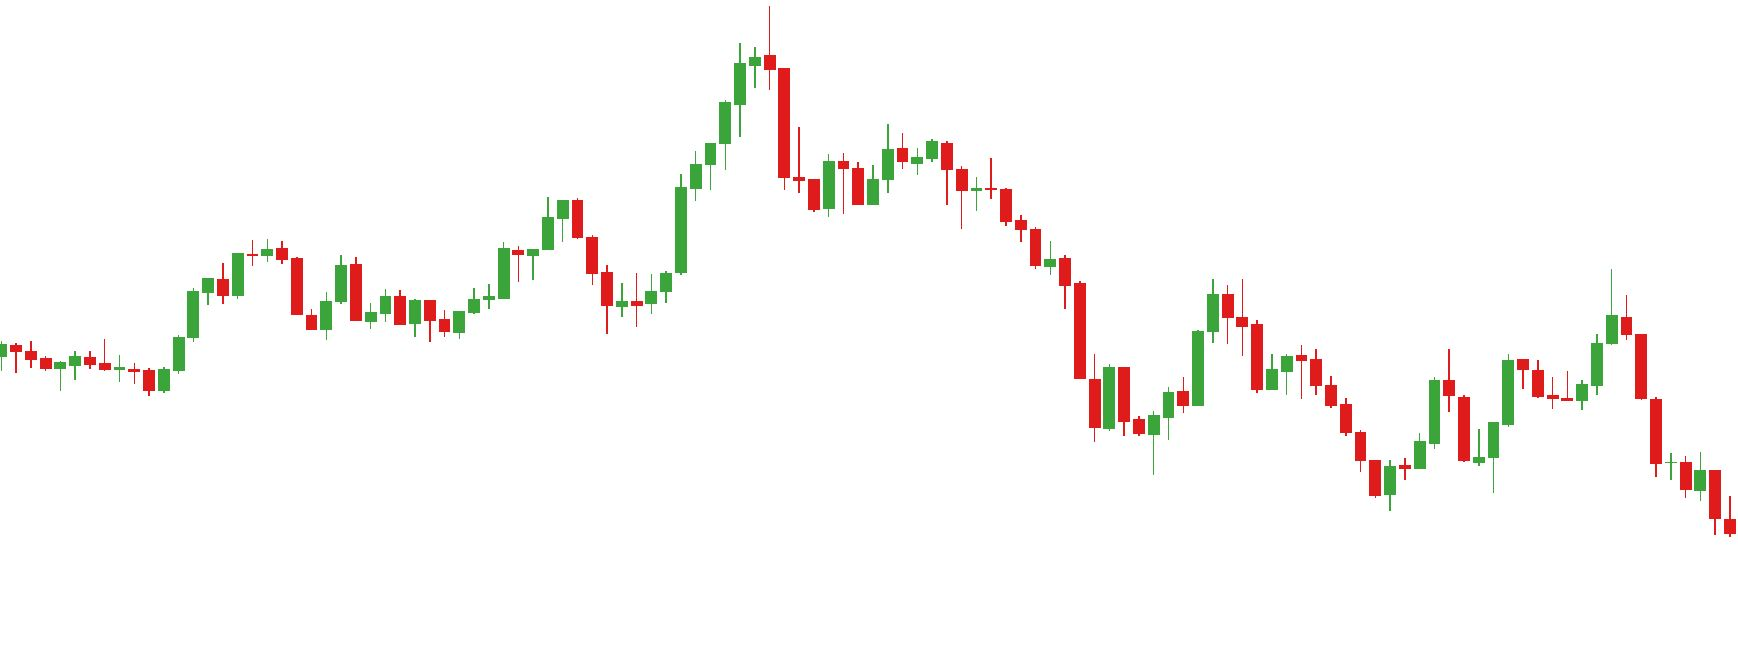buy: (1143, 354, 1398, 514)
sell: (1439, 268, 1650, 436)
